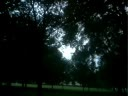window: (106, 65, 115, 79), (115, 58, 121, 74)
